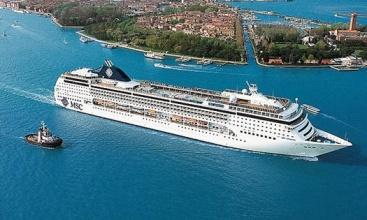otherboat: (24, 120, 64, 149)
youlun: (52, 50, 353, 160)
